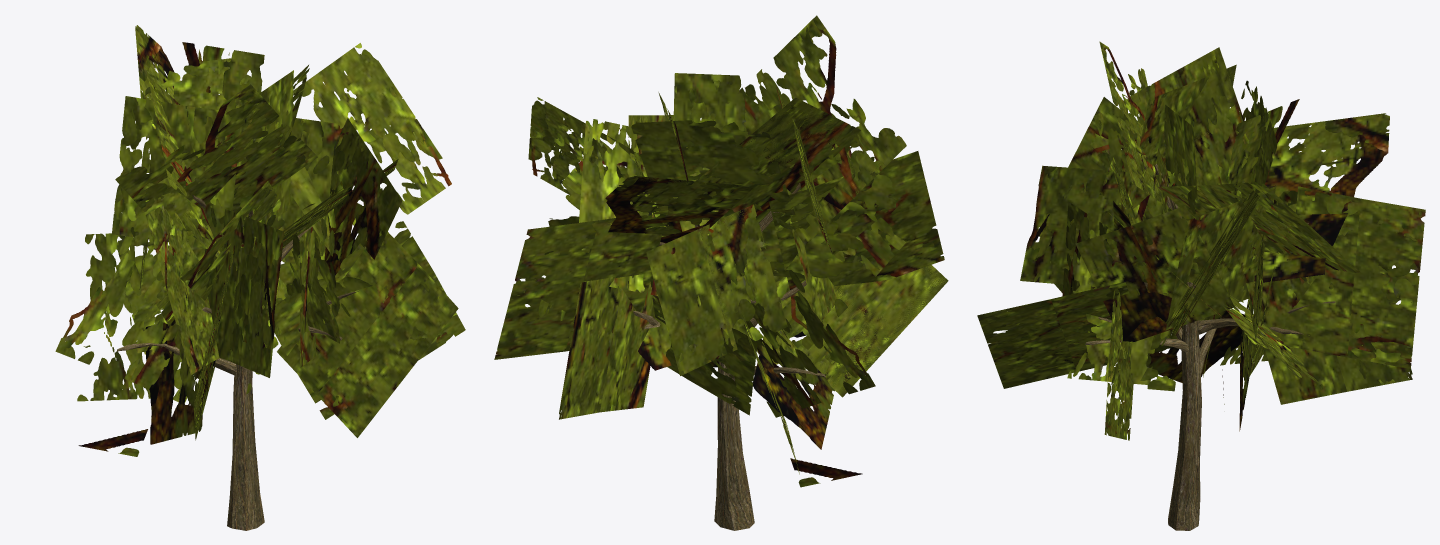
3 renders of one model, left to right at view 1: azimuth 30°, elevation 25°; view 2: azimuth 150°, elevation 25°; view 3: azimuth 270°, elevation 25°, orthographic. The views are drawn at different scales.
Parts seen in each view (by area): view 1: tr_prim0_29_StaticMeshComponent0, tr_prim1_27_StaticMeshComponent0; view 2: tr_prim0_29_StaticMeshComponent0, tr_prim1_27_StaticMeshComponent0; view 3: tr_prim0_29_StaticMeshComponent0, tr_prim1_27_StaticMeshComponent0.
Boxes of the visible parts, x1,y1,x2,y2 form: tr_prim0_29_StaticMeshComponent0: (55,25,465,456); tr_prim1_27_StaticMeshComponent0: (117,191,358,530); tr_prim0_29_StaticMeshComponent0: (494,15,948,487); tr_prim1_27_StaticMeshComponent0: (633,183,846,530); tr_prim0_29_StaticMeshComponent0: (977,41,1425,440); tr_prim1_27_StaticMeshComponent0: (1085,164,1335,530).
Bounding box in the file's own units: 13.41 × 14.69 × 12.87.
2 materials, 2 textured.
